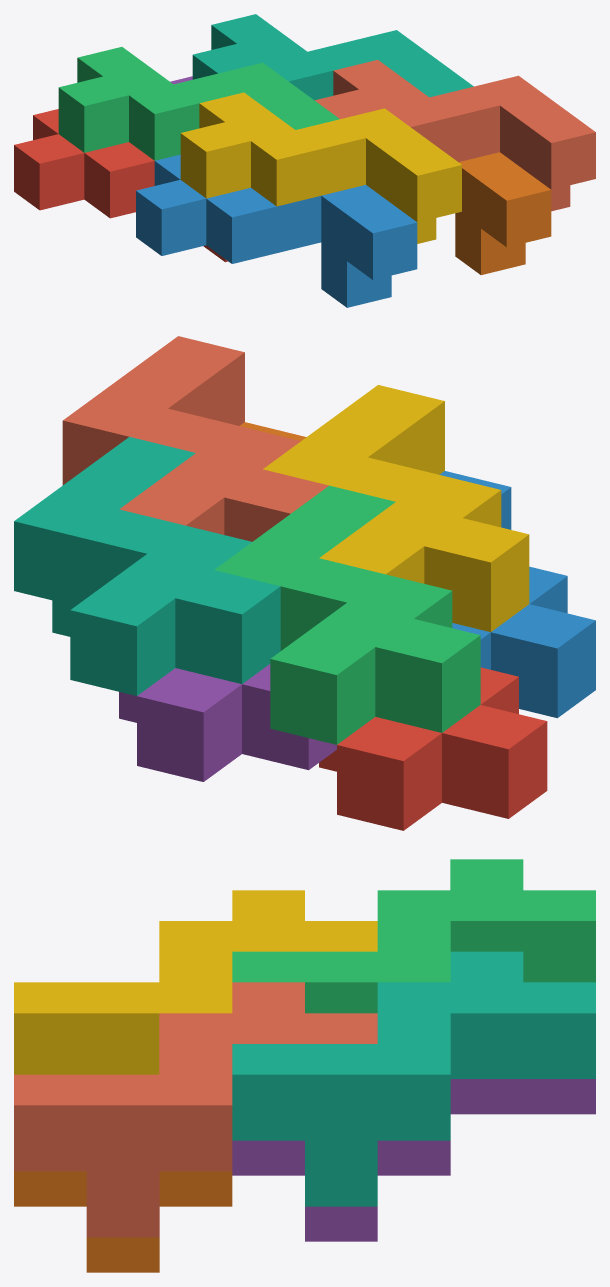
File: tiling.obj
3 renders of one model, top to bottom at view 1: azimuth 30°, elevation 25°; view 2: azimuth 150°, elevation 25°; view 3: azimuth 270°, elevation 25°, orthographic. The views are drawn at different scales.
Parts seen in each view (by area): view 1: copy_1_domain_4, copy_1_domain_2, copy_1_domain_8, copy_1_domain_3, copy_1_domain_7, copy_1_domain_1, copy_1_domain_6; view 2: copy_1_domain_7, copy_1_domain_3, copy_1_domain_4, copy_1_domain_8, copy_1_domain_1, copy_1_domain_5, copy_1_domain_2; view 3: copy_1_domain_7, copy_1_domain_8, copy_1_domain_3, copy_1_domain_4, copy_1_domain_5, copy_1_domain_6.
Part boxes in pixels (x1=…): copy_1_domain_4: x1=180, y1=92, x2=461, y2=243; copy_1_domain_2: x1=136, y1=154, x2=417, y2=307; copy_1_domain_8: x1=315, y1=60, x2=595, y2=211; copy_1_domain_3: x1=58, y1=47, x2=339, y2=160; copy_1_domain_7: x1=192, y1=14, x2=473, y2=100; copy_1_domain_1: x1=14, y1=109, x2=227, y2=262; copy_1_domain_6: x1=455, y1=152, x2=551, y2=274; copy_1_domain_7: x1=14, y1=437, x2=280, y2=695; copy_1_domain_3: x1=214, y1=485, x2=480, y2=744; copy_1_domain_4: x1=263, y1=385, x2=529, y2=632; copy_1_domain_8: x1=62, y1=336, x2=328, y2=541; copy_1_domain_1: x1=319, y1=667, x2=547, y2=830; copy_1_domain_5: x1=119, y1=664, x2=336, y2=781; copy_1_domain_2: x1=439, y1=471, x2=595, y2=718; copy_1_domain_7: x1=232, y1=951, x2=595, y2=1206; copy_1_domain_8: x1=14, y1=982, x2=377, y2=1237; copy_1_domain_3: x1=232, y1=859, x2=595, y2=1013; copy_1_domain_4: x1=14, y1=890, x2=377, y2=1074; copy_1_domain_5: x1=232, y1=1079, x2=595, y2=1241; copy_1_domain_6: x1=14, y1=1171, x2=232, y2=1272.
Bounding box in the file's own units: 9 × 3 × 8.
